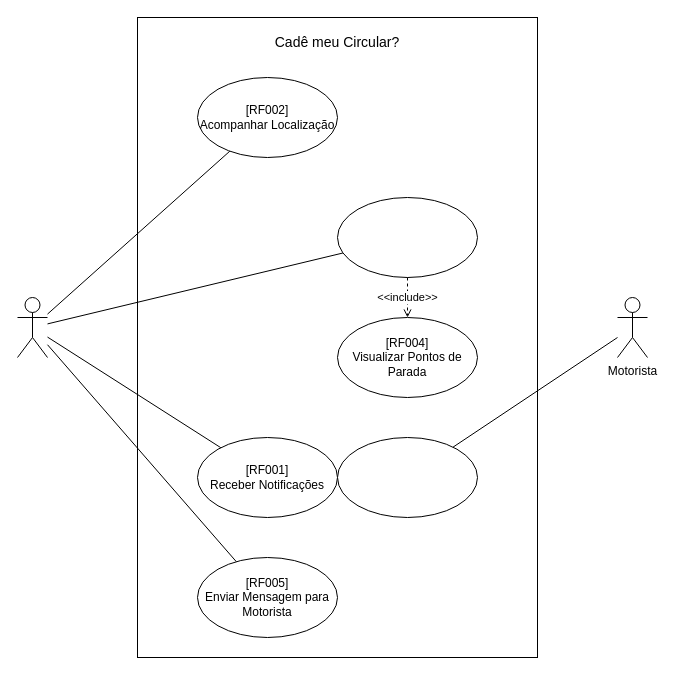
This 674x675 diagram has some shape labels left out. Each missing label, with the box of its shape:
[RF003] Consultar Horários: (336, 196, 478, 278)
[RF005] Enviar Comunicado Geral: (336, 436, 478, 518)
Aluno: (16, 296, 48, 358)
